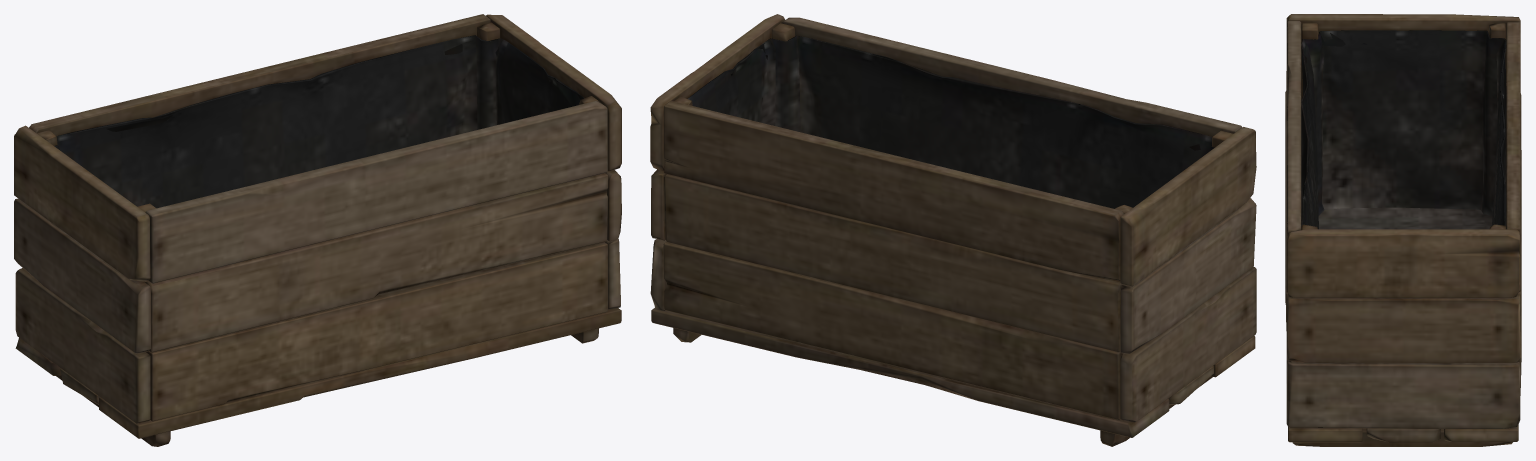
Rendered from planter_box_01.lod1.glb.
3 views of the same model, side by side, from view 1: azimuth 30°, elevation 25°; view 2: azimuth 150°, elevation 25°; view 3: azimuth 270°, elevation 25° (orthographic). The views are drawn at different scales.
Visible parts, largest first — view 1: planter_box_01; view 2: planter_box_01; view 3: planter_box_01.
Part boxes in pixels (x1=…): planter_box_01: x1=14, y1=14, x2=621, y2=446; planter_box_01: x1=650, y1=14, x2=1256, y2=446; planter_box_01: x1=1285, y1=14, x2=1521, y2=446.
Size of the model in its own units: 0.9055 by 0.425 by 0.4097.
1 material, 1 textured.
